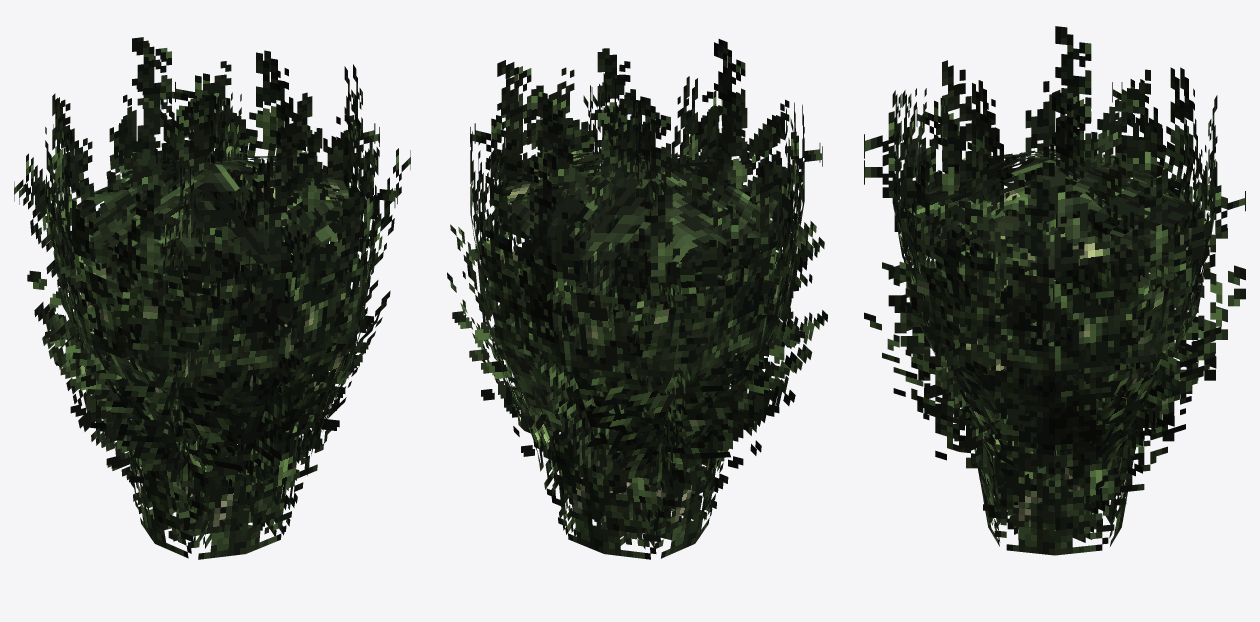
The model's file is bush08_summer.glb.
3 renders of one model, left to right at view 1: azimuth 30°, elevation 25°; view 2: azimuth 150°, elevation 25°; view 3: azimuth 270°, elevation 25°, orthographic.
Parts seen in each view (by area): view 1: bush08; view 2: bush08; view 3: bush08.
Part boxes in pixels (bbox=[...]): bush08: bbox=[14, 37, 410, 559]; bush08: bbox=[447, 39, 827, 559]; bush08: bbox=[864, 26, 1245, 555].
Bounding box in the file's own units: 1.2 × 1.5 × 1.2.
1 material, 1 textured.
